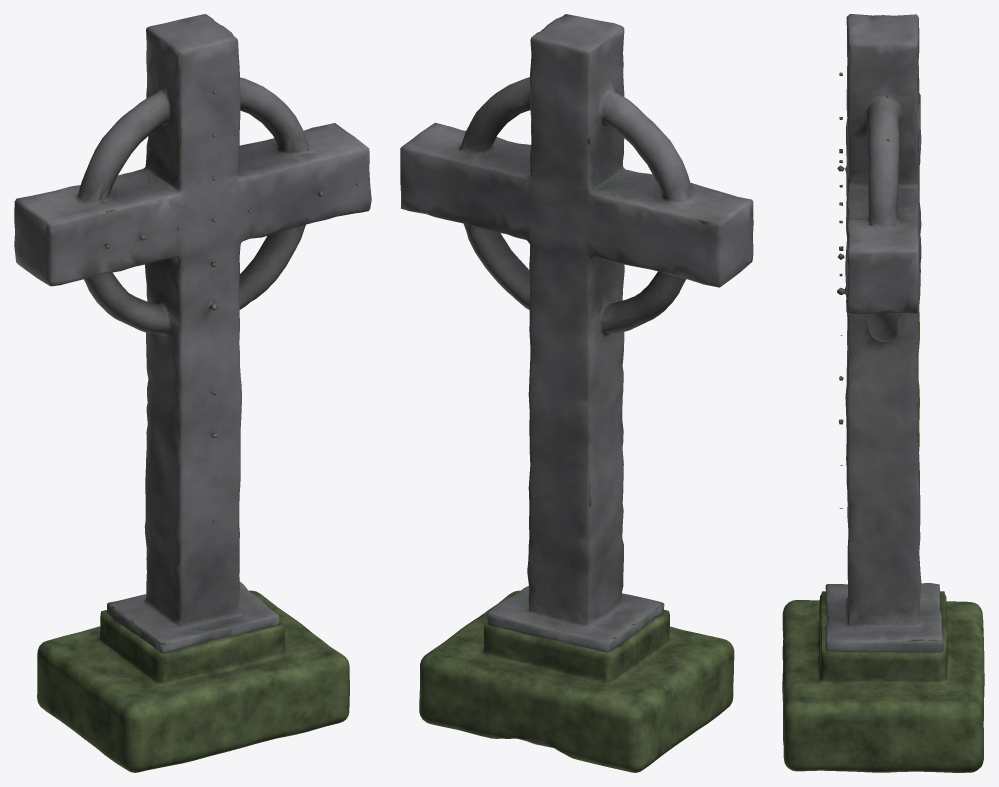
Rendered from tombstone_cross.glb.
3 renders of one model, left to right at view 1: azimuth 30°, elevation 25°; view 2: azimuth 150°, elevation 25°; view 3: azimuth 270°, elevation 25°, orthographic.
Visible parts, largest first — view 1: Grave_Cross, Grave_Cross_Moss; view 2: Grave_Cross, Grave_Cross_Moss; view 3: Grave_Cross, Grave_Cross_Moss.
Part boxes in pixels (x1,y1,x2,y2): Grave_Cross: (14, 14, 371, 652); Grave_Cross_Moss: (37, 590, 349, 772); Grave_Cross: (400, 14, 753, 747); Grave_Cross_Moss: (419, 590, 734, 772); Grave_Cross: (825, 14, 942, 652); Grave_Cross_Moss: (782, 591, 984, 772).
Size of the model in its own units: 0.6113 by 1.24 by 0.3269.
Materials: 1 (1 with a texture image).
